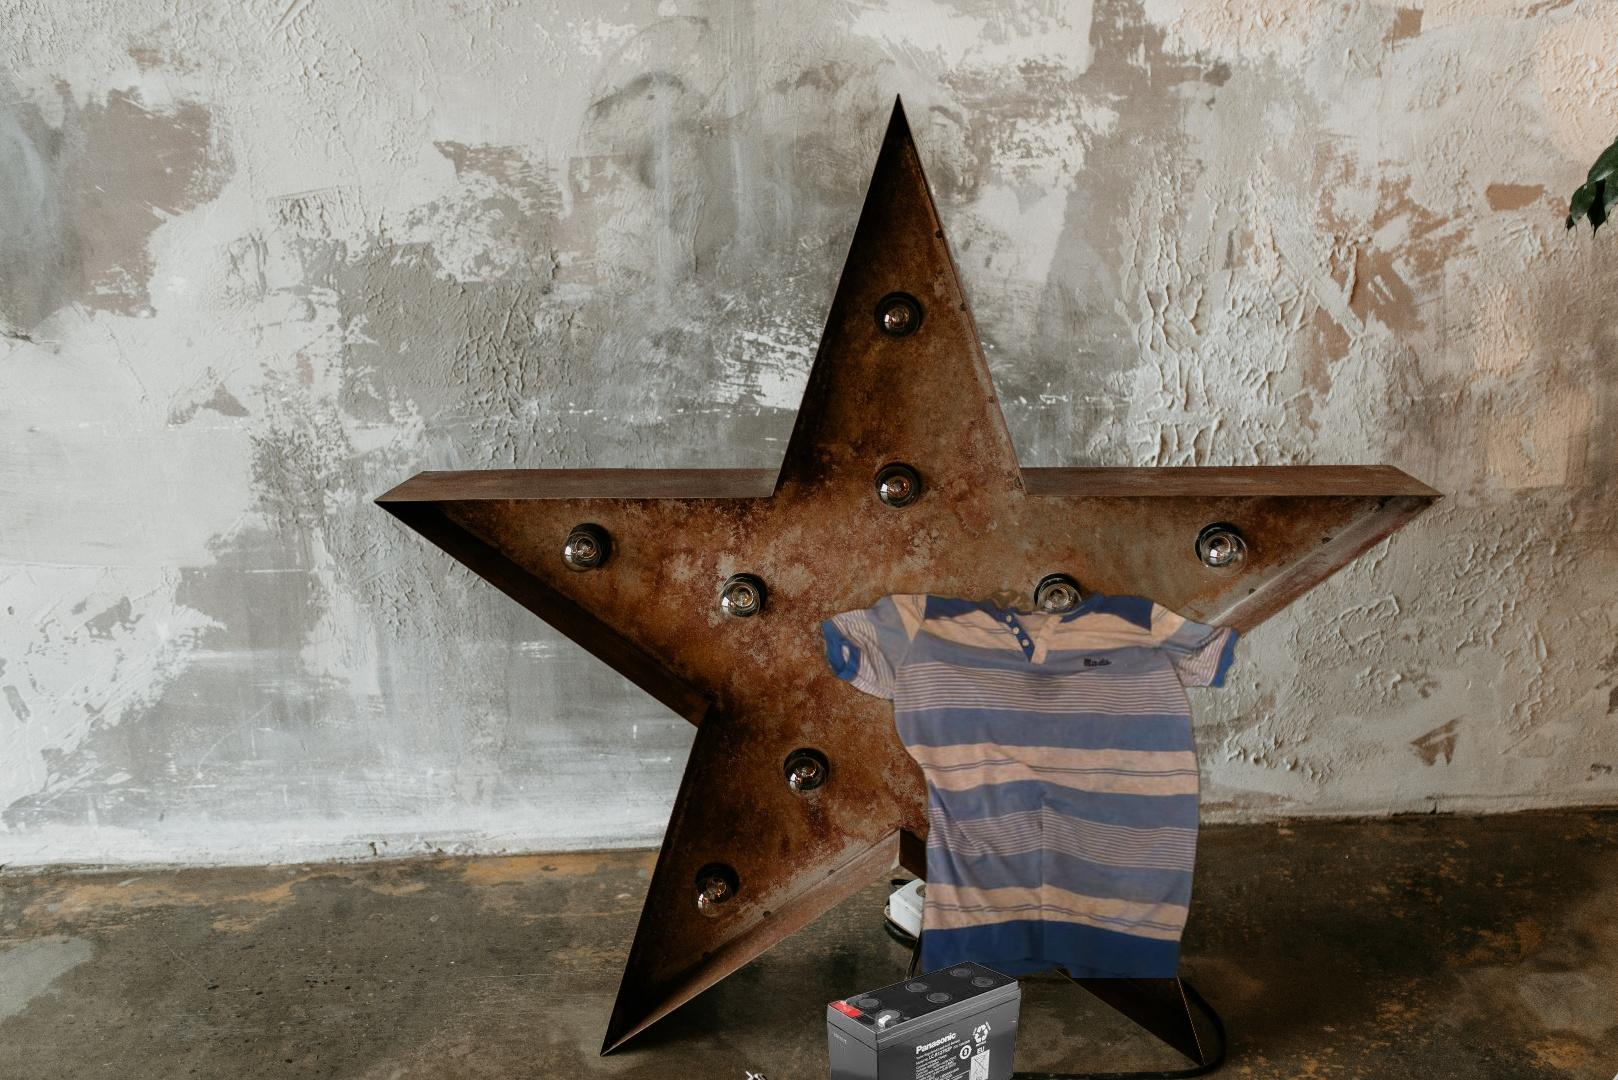battery: (823, 958, 1024, 1080)
clothes: (810, 579, 1246, 978)
